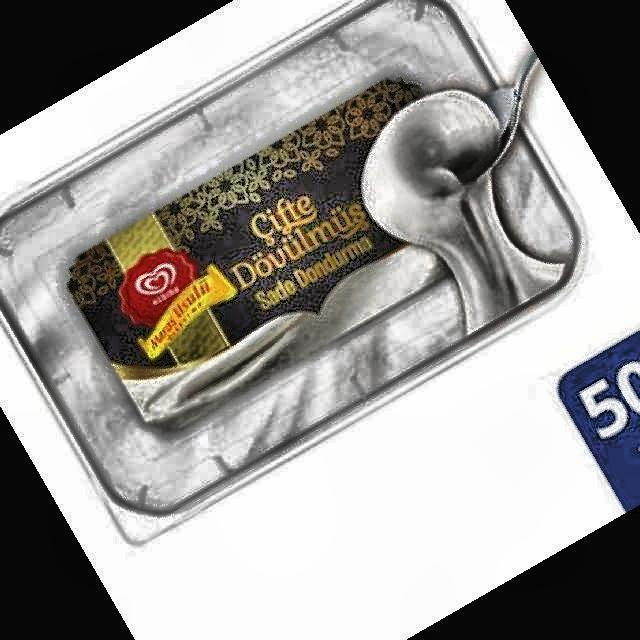plastic: (0, 0, 589, 544)
